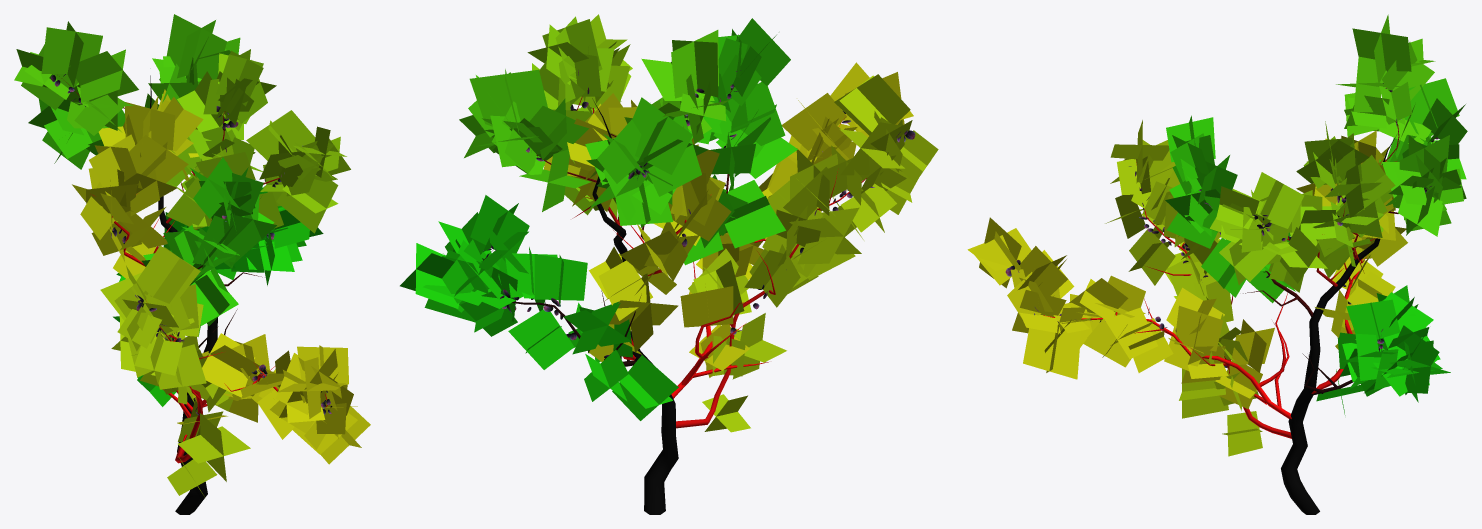
File: plum1 lod0.FBX
3 renders of one model, left to right at view 1: azimuth 30°, elevation 25°; view 2: azimuth 150°, elevation 25°; view 3: azimuth 270°, elevation 25°, orthographic. The views are drawn at different scales.
Visible parts, largest first — view 1: plum1; view 2: plum1; view 3: plum1.
Part boxes in pixels (x1,y1,x2,y2): plum1: (14,14,370,514); plum1: (400,14,938,514); plum1: (967,14,1467,514).
Bounding box in the file's own units: 131618 × 183491 × 183887.
